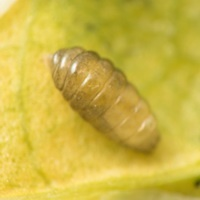insect: (51, 47, 158, 151)
